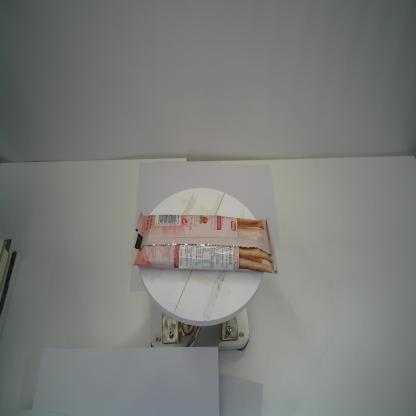Dessert: (125, 210, 281, 276)
